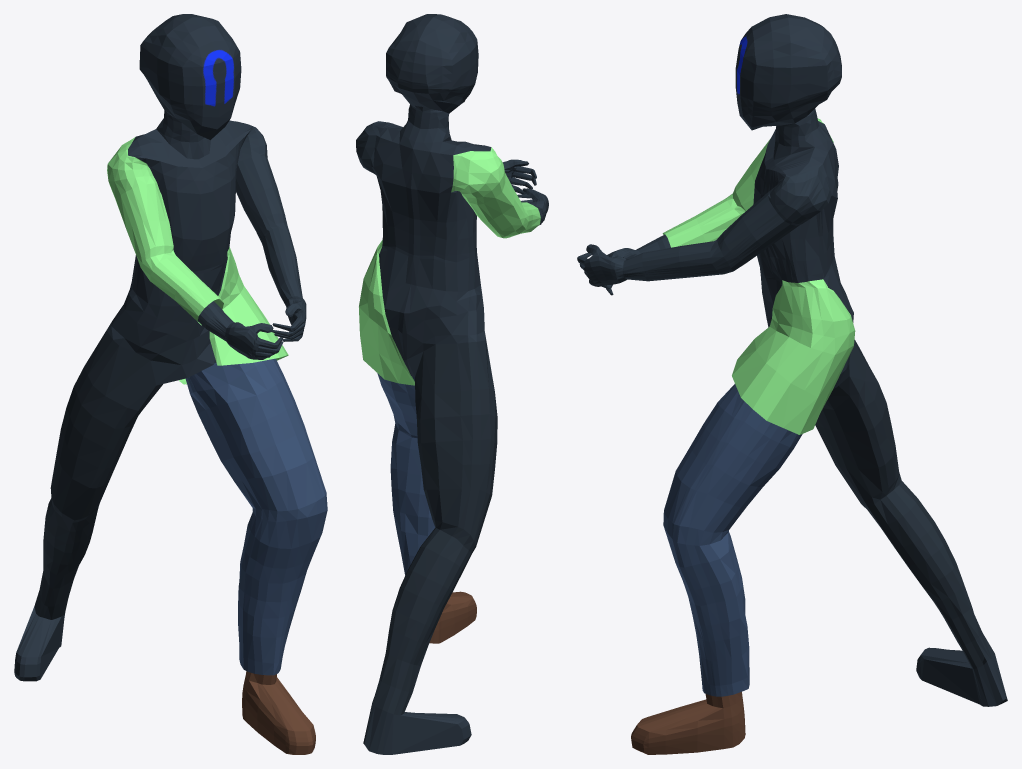
The model's file is Mar_Recover_000034.obj.
The picture shows the model from 3 angles, left to right: view 1: azimuth 30°, elevation 25°; view 2: azimuth 150°, elevation 25°; view 3: azimuth 270°, elevation 25°; orthographic projection. The views are drawn at different scales.
Parts seen in each view (by area): view 1: Cube.000_Cube.001; view 2: Cube.000_Cube.001; view 3: Cube.000_Cube.001.
Part boxes in pixels (left/top/right/bottom): Cube.000_Cube.001: left=14, top=14, right=327, bottom=754; Cube.000_Cube.001: left=356, top=14, right=548, bottom=754; Cube.000_Cube.001: left=577, top=14, right=1007, bottom=754.
Size of the model in its own units: 1.09 by 3.74 by 2.05.
